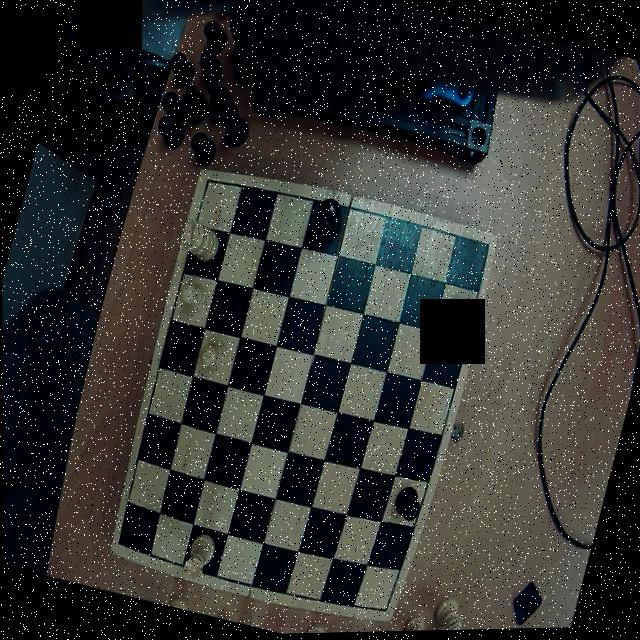chess-table-corners: (469, 234, 496, 264), (196, 168, 222, 196), (108, 526, 130, 557), (368, 598, 392, 624)
